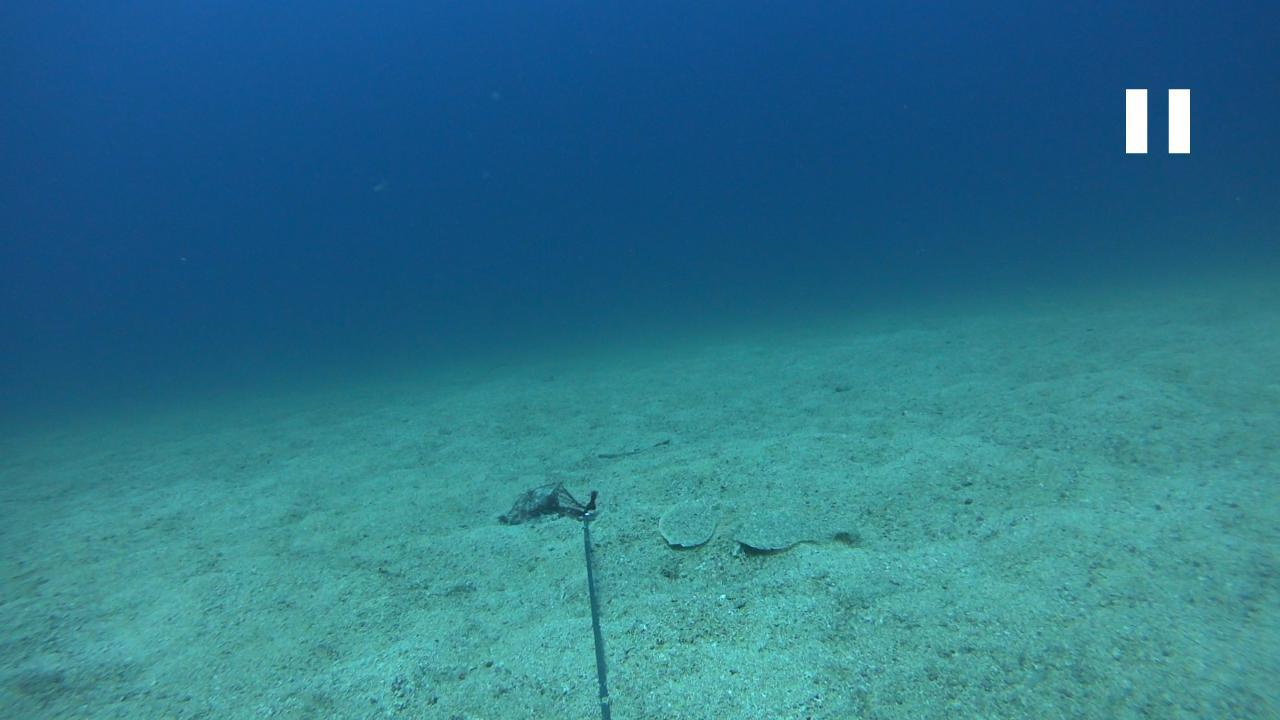bothus: (731, 506, 866, 550), (654, 492, 722, 550)
